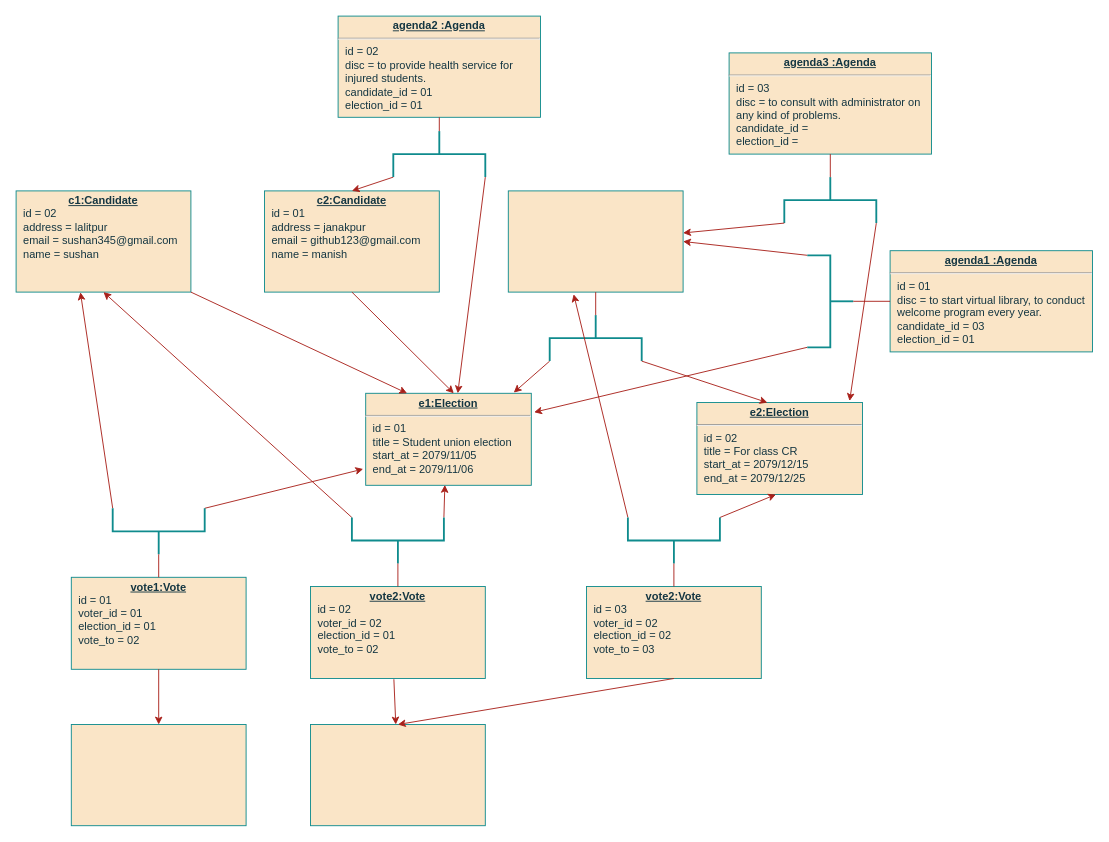
This 1109x842 diagram has some shape labels left out. Each missing label, with the centre of its shape:
"c3:Candidate id = 03 address = kathmandu email = sakar333@gmail.com name = sakar" goes at (595,241).
"v1:Voter id = 01 address = kathmandu email = shivahari@gmail.com name = sivahari" goes at (158,775).
"v2:Voter id = 02 address = gorkha email = suma@gmail.com name = suman" goes at (397,775).
